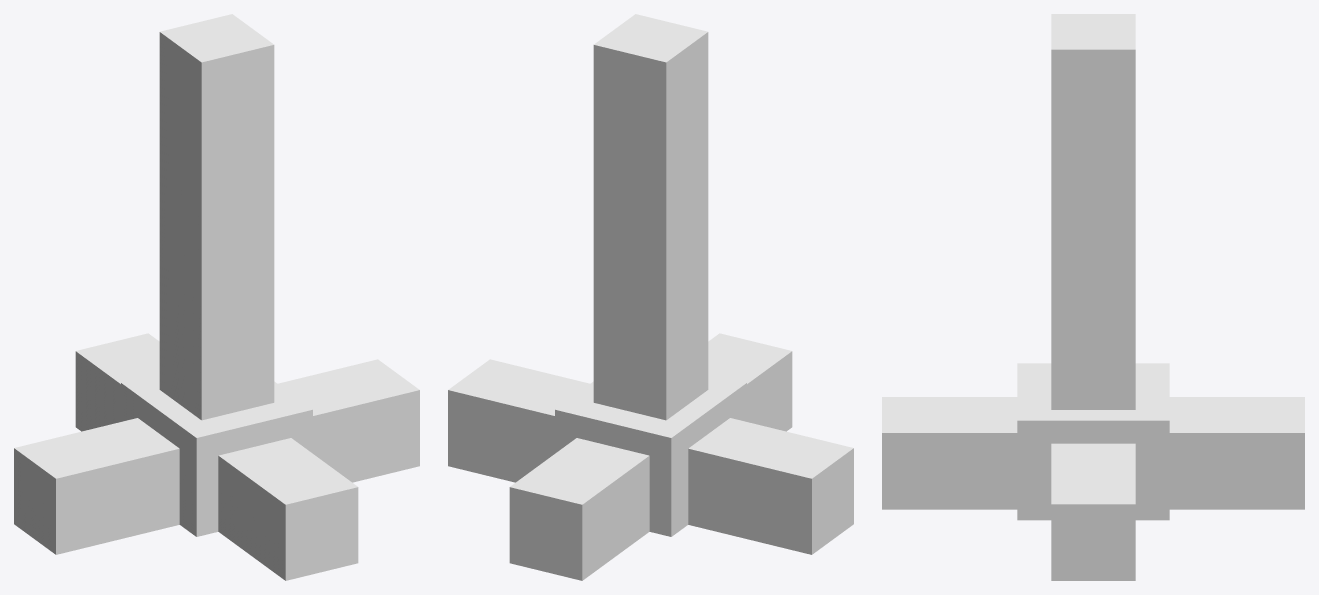
The model's file is markerpost.gltf.
3 renders of one model, left to right at view 1: azimuth 30°, elevation 25°; view 2: azimuth 150°, elevation 25°; view 3: azimuth 270°, elevation 25°, orthographic.
Parts seen in each view (by area): view 1: ede6858b-cb3b-17c9-48f9-1a77d84e8fe7, 04285b01-04cc-07ce-b977-2cf39a36357d, e6dfdaaf-a1d9-021d-4b54-734afe0ba153, 5a6e5ebd-204a-ed1b-5ad3-5e78733fd979; view 2: ede6858b-cb3b-17c9-48f9-1a77d84e8fe7, 04285b01-04cc-07ce-b977-2cf39a36357d, e6dfdaaf-a1d9-021d-4b54-734afe0ba153, 5a6e5ebd-204a-ed1b-5ad3-5e78733fd979; view 3: ede6858b-cb3b-17c9-48f9-1a77d84e8fe7, e6dfdaaf-a1d9-021d-4b54-734afe0ba153, 5a6e5ebd-204a-ed1b-5ad3-5e78733fd979, 04285b01-04cc-07ce-b977-2cf39a36357d.
Part boxes in pixels (x1=…): ede6858b-cb3b-17c9-48f9-1a77d84e8fe7: x1=159, y1=14, x2=274, y2=420; 04285b01-04cc-07ce-b977-2cf39a36357d: x1=14, y1=359, x2=419, y2=554; e6dfdaaf-a1d9-021d-4b54-734afe0ba153: x1=75, y1=333, x2=358, y2=580; 5a6e5ebd-204a-ed1b-5ad3-5e78733fd979: x1=121, y1=373, x2=312, y2=536; ede6858b-cb3b-17c9-48f9-1a77d84e8fe7: x1=593, y1=14, x2=708, y2=420; 04285b01-04cc-07ce-b977-2cf39a36357d: x1=448, y1=359, x2=853, y2=554; e6dfdaaf-a1d9-021d-4b54-734afe0ba153: x1=509, y1=333, x2=792, y2=580; 5a6e5ebd-204a-ed1b-5ad3-5e78733fd979: x1=555, y1=373, x2=746, y2=536; ede6858b-cb3b-17c9-48f9-1a77d84e8fe7: x1=1051, y1=14, x2=1135, y2=409; e6dfdaaf-a1d9-021d-4b54-734afe0ba153: x1=882, y1=397, x2=1304, y2=509; 5a6e5ebd-204a-ed1b-5ad3-5e78733fd979: x1=1017, y1=363, x2=1169, y2=520; 04285b01-04cc-07ce-b977-2cf39a36357d: x1=1051, y1=443, x2=1135, y2=580.
Size of the model in its own units: 0.3125 by 0.375 by 0.3125.
1 material, 1 textured.
